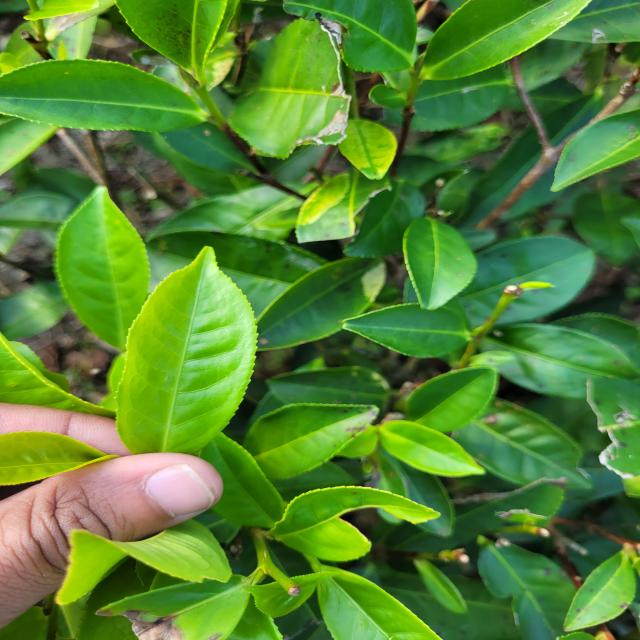Category B(2-4 days): (98, 229, 275, 470)
